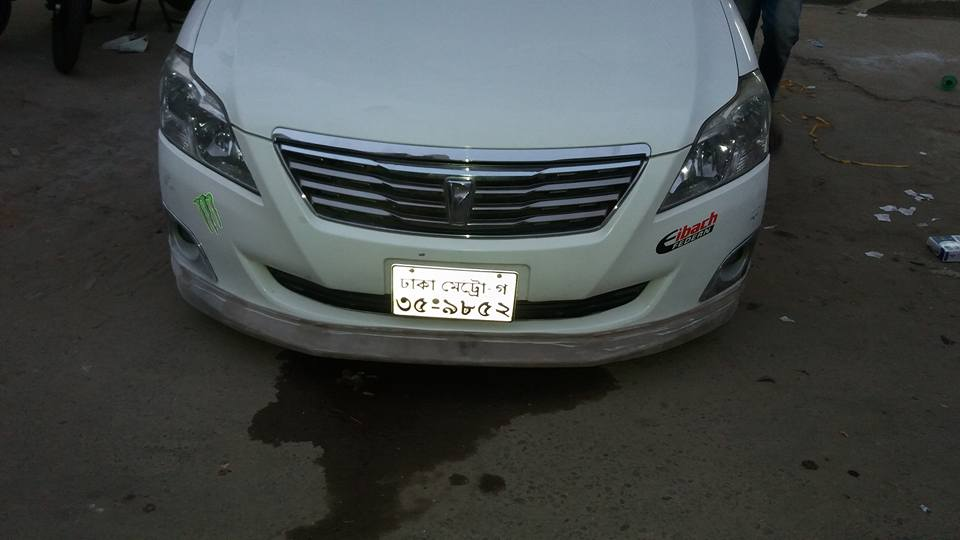registration_plate: (390, 262, 519, 323)
